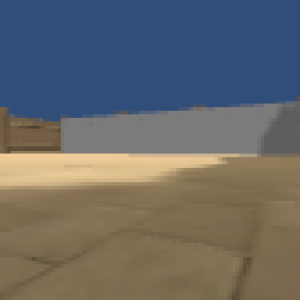wall: (58, 107, 300, 155)
